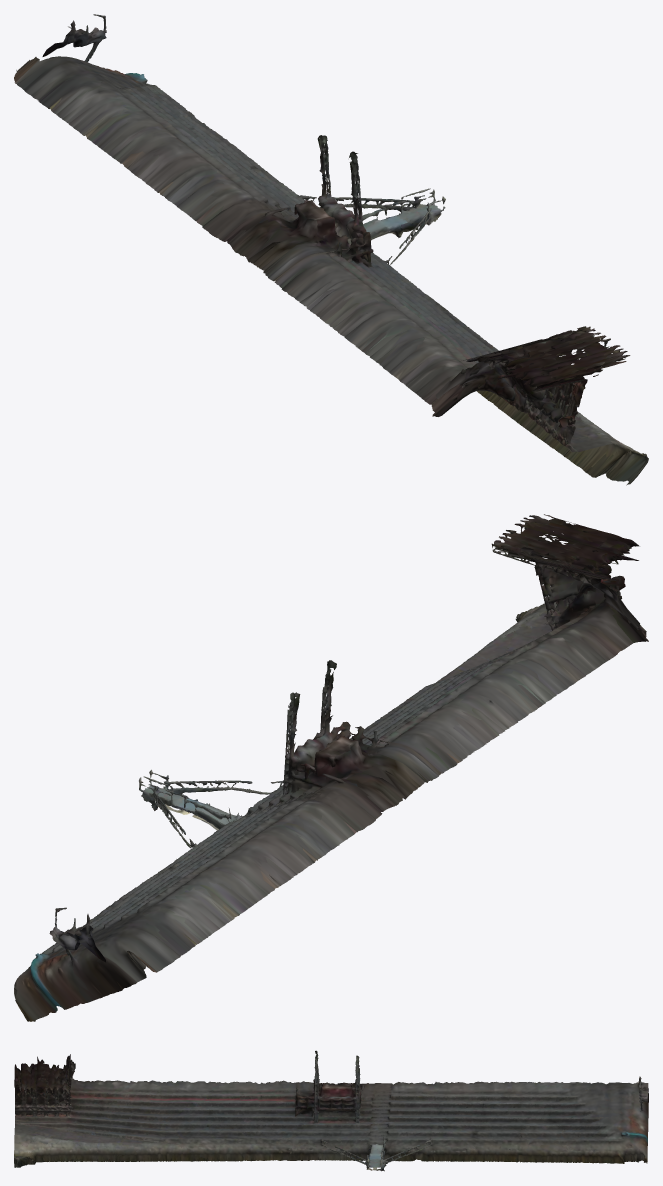
The model's file is run4_p3_c3.glb.
3 views of the same model, one above another, from view 1: azimuth 30°, elevation 25°; view 2: azimuth 150°, elevation 25°; view 3: azimuth 270°, elevation 25° (orthographic). The views are drawn at different scales.
Visible parts, largest first — view 1: run4_p3_straight_c3; view 2: run4_p3_straight_c3; view 3: run4_p3_straight_c3.
Boxes of the visible parts, <box> form: run4_p3_straight_c3: <box>14,14,648,485</box>; run4_p3_straight_c3: <box>14,514,648,1021</box>; run4_p3_straight_c3: <box>14,1050,648,1171</box>.
Bounding box in the file's own units: 11.38 × 7.4 × 40.07.
Materials: 1 (1 with a texture image).
